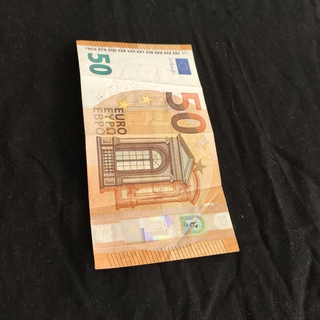50EUROFront: (75, 39, 240, 269)
